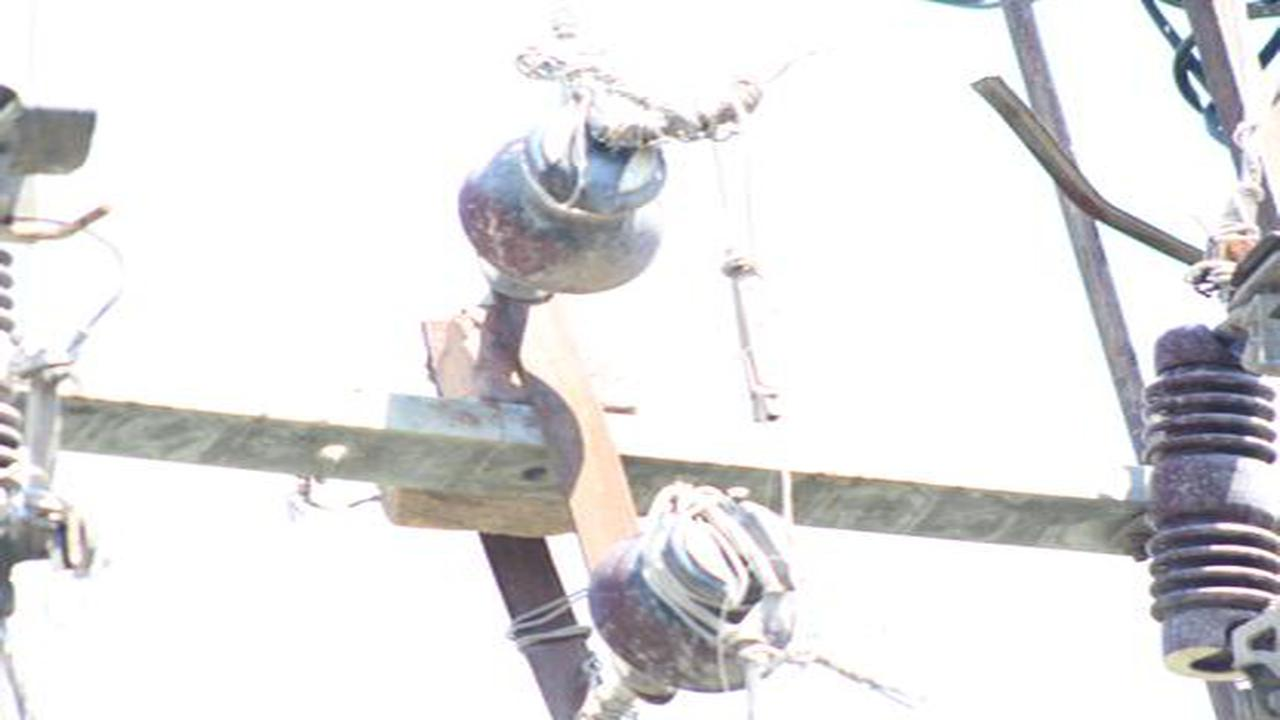insulator_pin: (583, 473, 813, 703), (448, 101, 674, 305)
